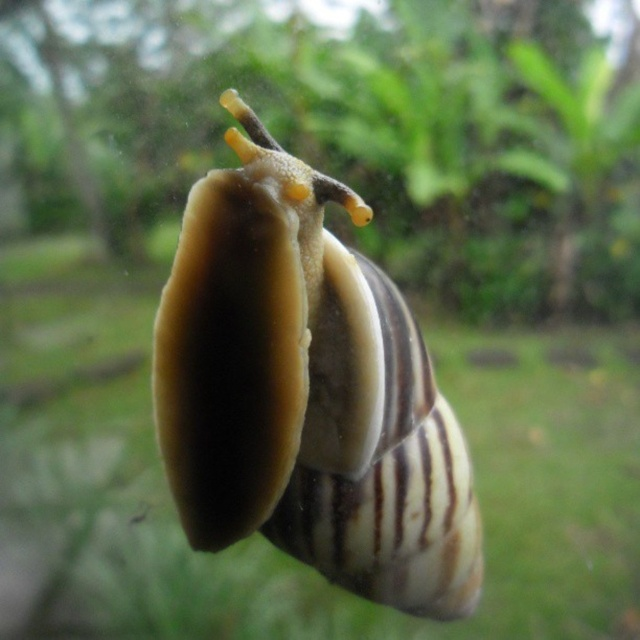Snail: (150, 88, 483, 623)
